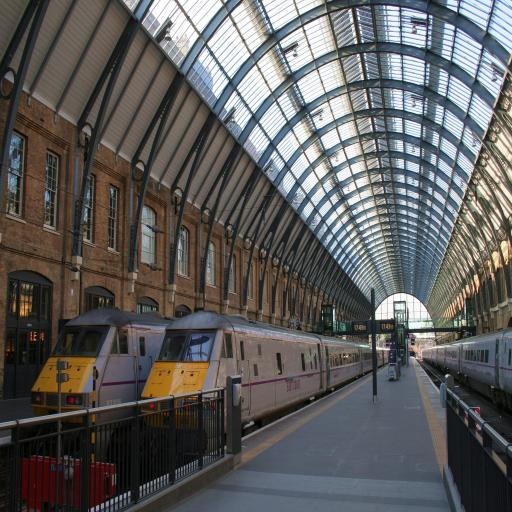platform_edge: (240, 378, 372, 427), (410, 359, 451, 483)
